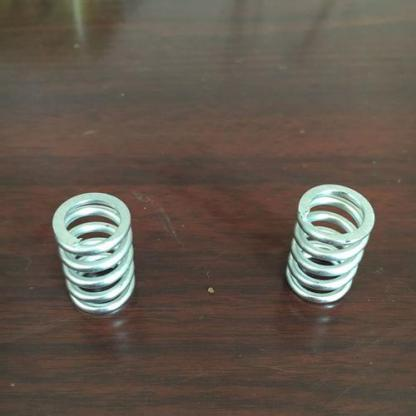FOD: (282, 182, 377, 307), (49, 192, 141, 316)
